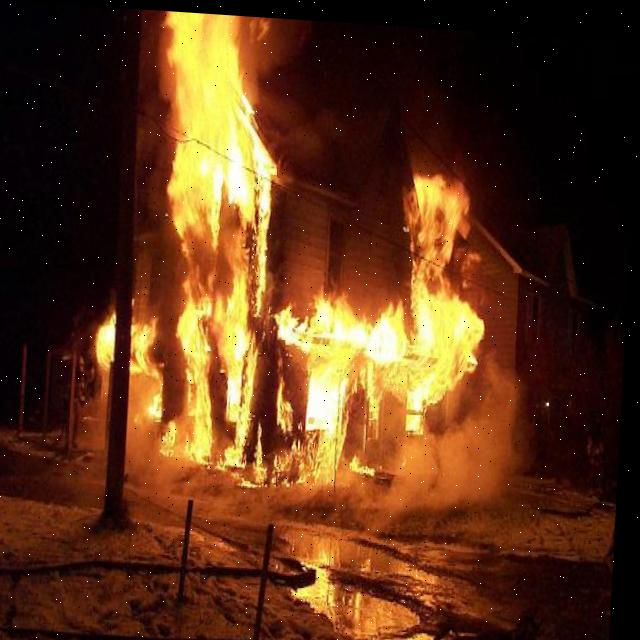fire: (106, 7, 497, 508)
smoke: (139, 328, 533, 532)
